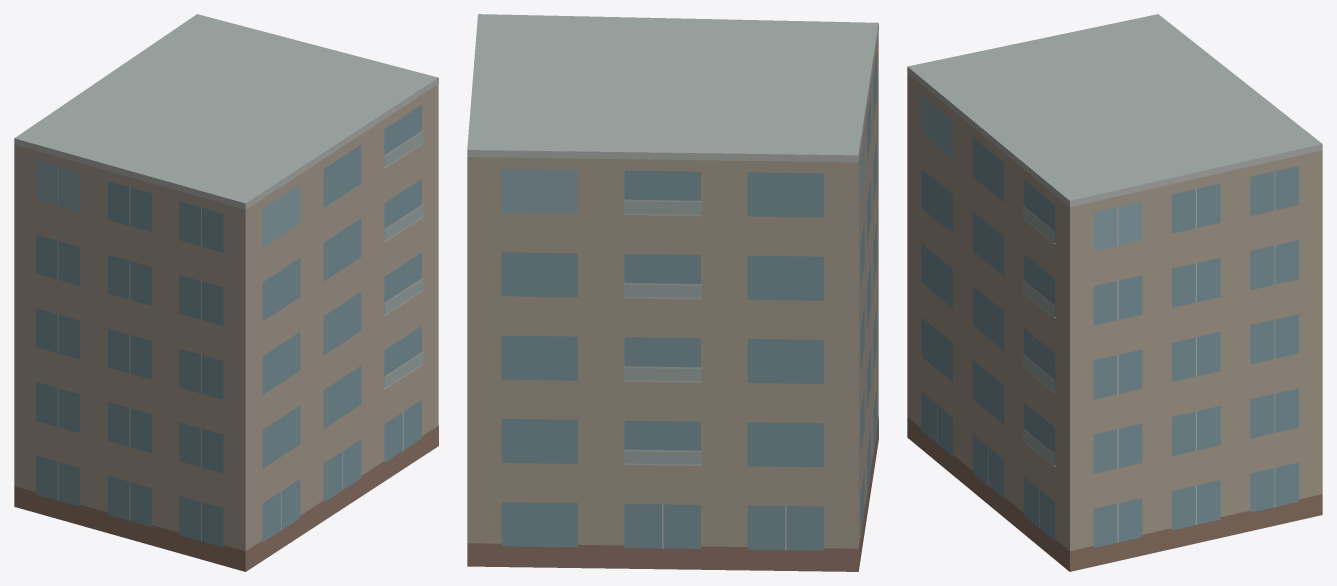
The model's file is survey-upis-32827551.glb.
The picture shows the model from 3 angles, left to right: view 1: azimuth 30°, elevation 25°; view 2: azimuth 150°, elevation 25°; view 3: azimuth 270°, elevation 25°; orthographic projection. The views are drawn at different scales.
Visible parts, largest first — view 1: survey-upis-32827551.tmp; view 2: survey-upis-32827551.tmp; view 3: survey-upis-32827551.tmp.
Boxes of the visible parts, x1,y1,x2,y2 form: survey-upis-32827551.tmp: (14,14,438,571); survey-upis-32827551.tmp: (467,14,878,571); survey-upis-32827551.tmp: (907,14,1322,571).
Bounding box in the file's own units: 15.57 × 14.4 × 14.62.
